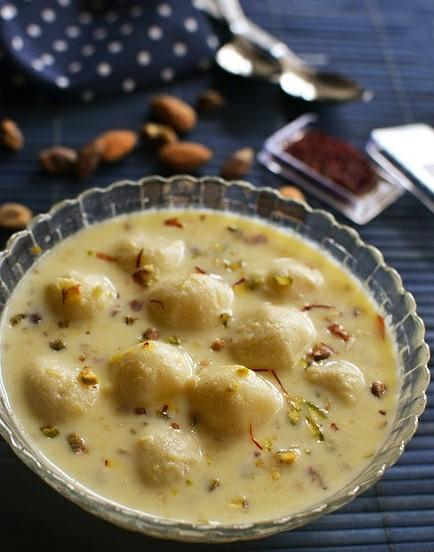RasMalai: (0, 208, 400, 525)
